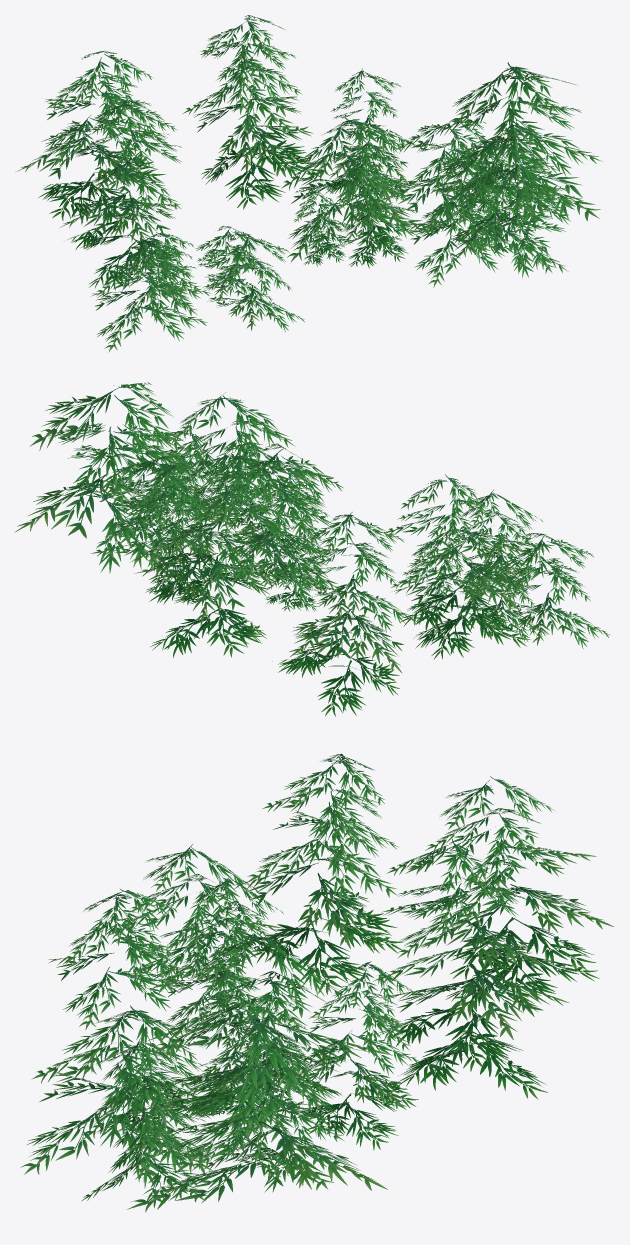
Rendered from Area_02_5.fbx.
3 views of the same model, one above another, from view 1: azimuth 30°, elevation 25°; view 2: azimuth 150°, elevation 25°; view 3: azimuth 270°, elevation 25° (orthographic). The views are drawn at different scales.
Parts seen in each view (by area): view 1: Area_02_5; view 2: Area_02_5; view 3: Area_02_5.
Boxes of the visible parts, bbox=[...] form: Area_02_5: bbox=[15, 15, 602, 352]; Area_02_5: bbox=[14, 382, 610, 716]; Area_02_5: bbox=[20, 753, 613, 1212].
Bounding box in the file's own units: 5292 × 1901 × 3936.
